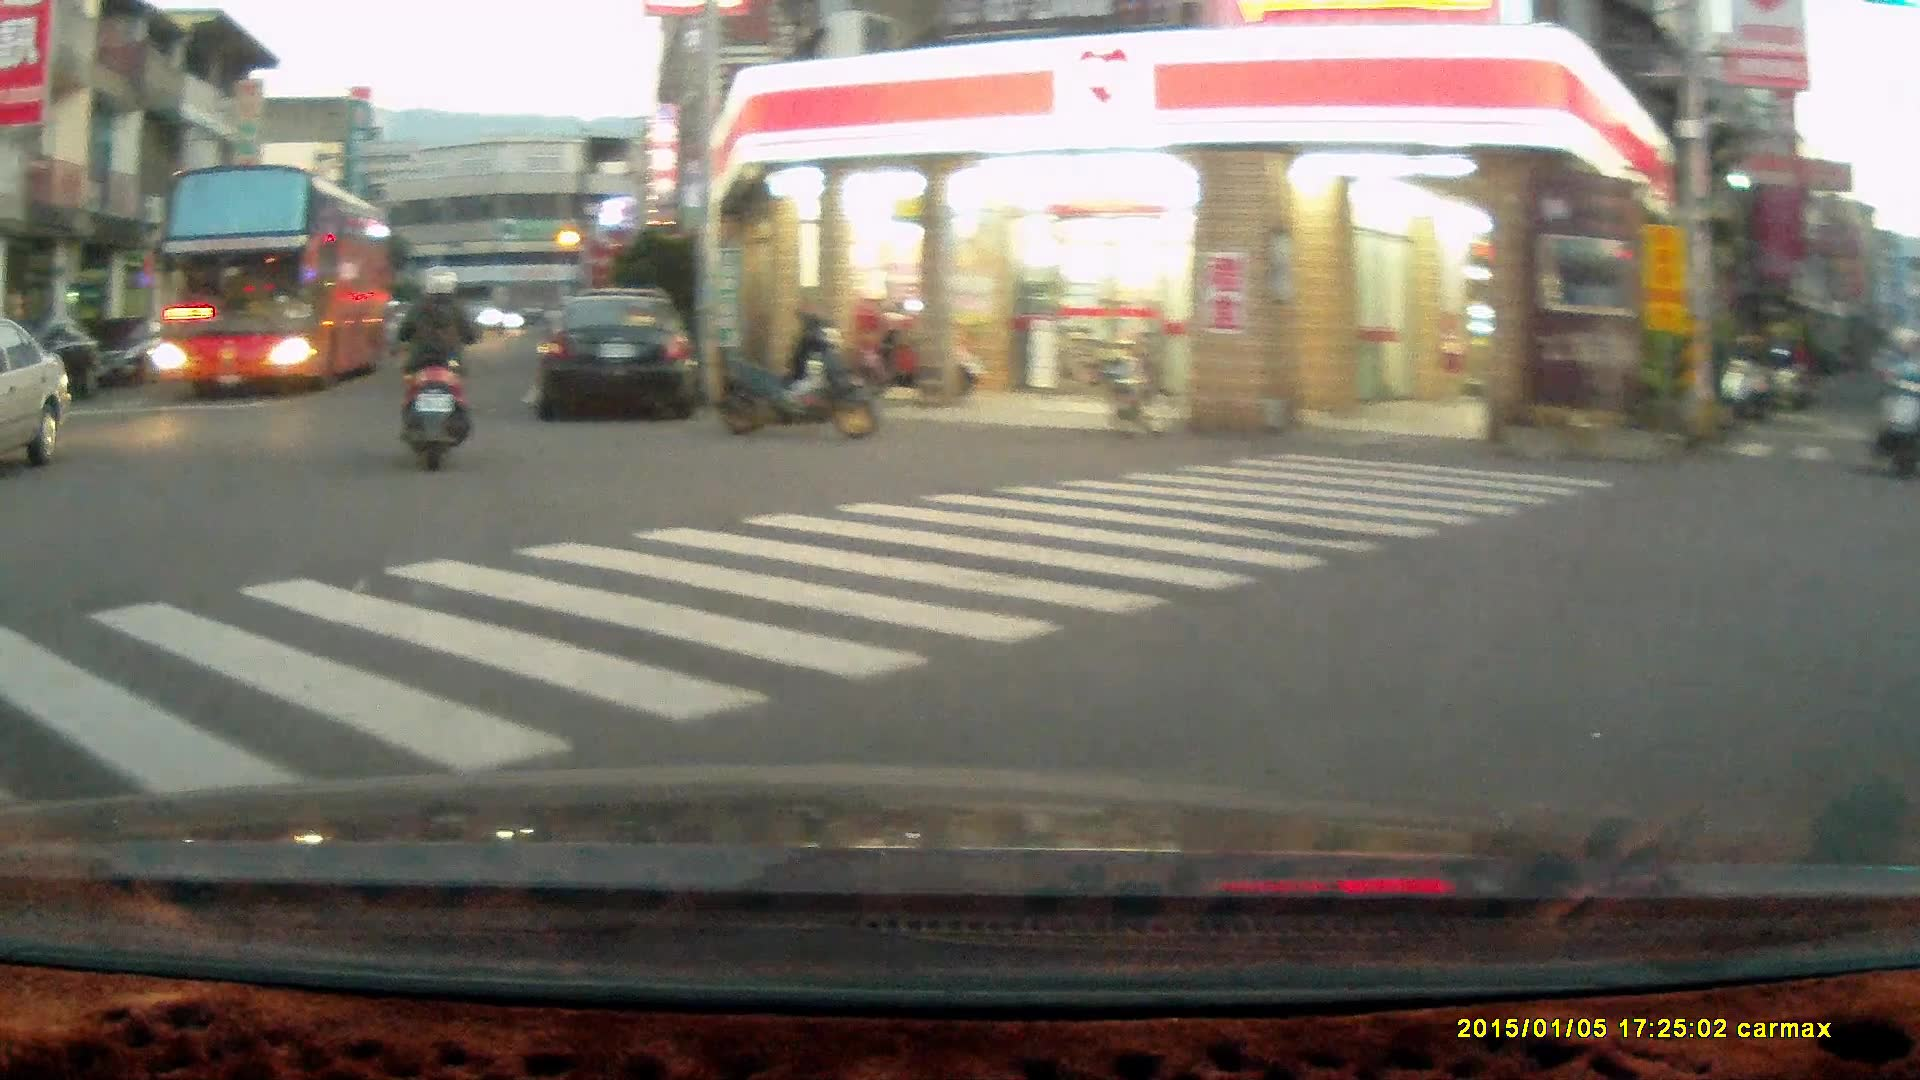rider: (390, 261, 484, 471), (1872, 326, 1920, 476)
vehicle: (156, 161, 407, 396), (535, 289, 704, 421), (6, 313, 106, 408)
